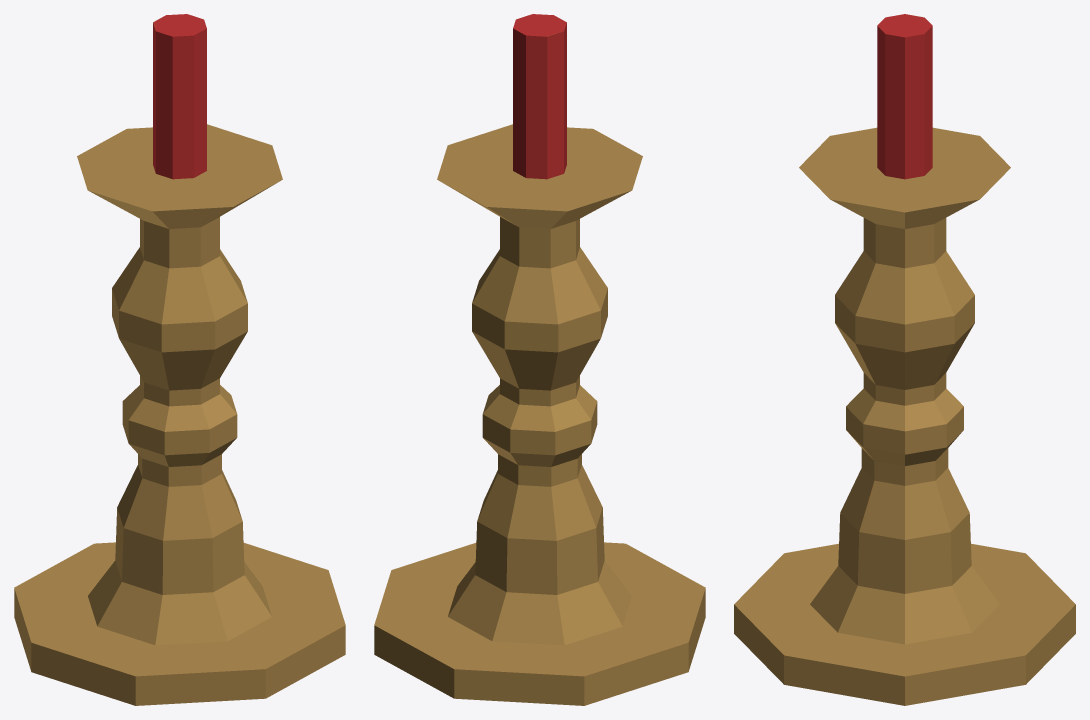
The model's file is candle 01.FBX.
The picture shows the model from 3 angles, left to right: view 1: azimuth 30°, elevation 25°; view 2: azimuth 150°, elevation 25°; view 3: azimuth 270°, elevation 25°; orthographic projection.
Parts seen in each view (by area): view 1: candle01; view 2: candle01; view 3: candle01.
Part boxes in pixels (box(x1,y1,x2,y2)): candle01: box(14, 14, 345, 705); candle01: box(374, 14, 705, 705); candle01: box(734, 14, 1075, 705).
Size of the model in its own units: 19.09 by 37.47 by 19.09.
Materials: 1 (1 with a texture image).
